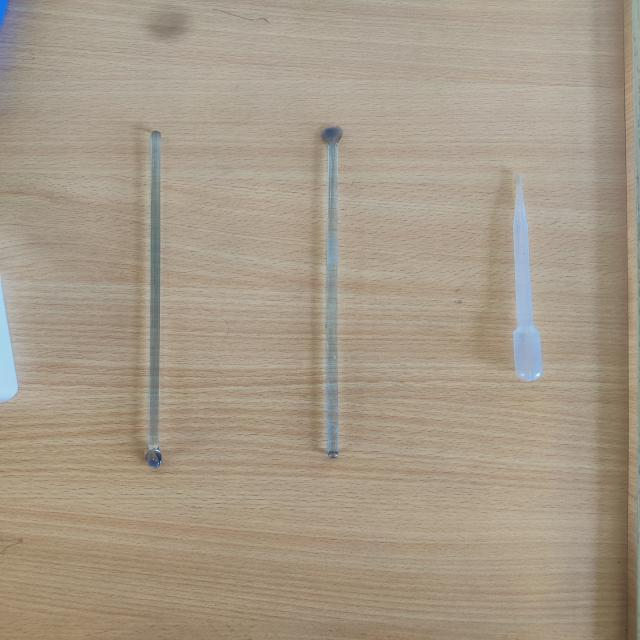Glass_Rod: (282, 91, 386, 486), (118, 104, 200, 481)
Pipette: (470, 157, 586, 409)
